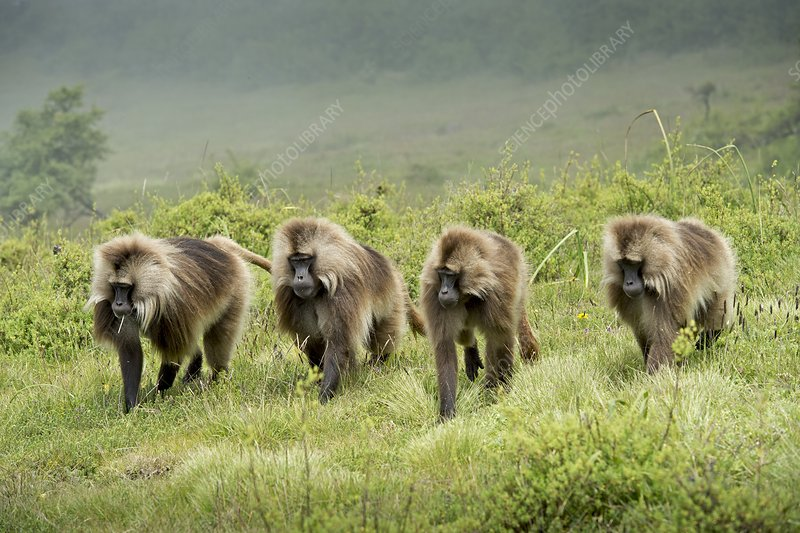Gelada: (82, 236, 254, 385), (274, 221, 421, 385), (591, 213, 743, 361), (422, 228, 541, 399)
